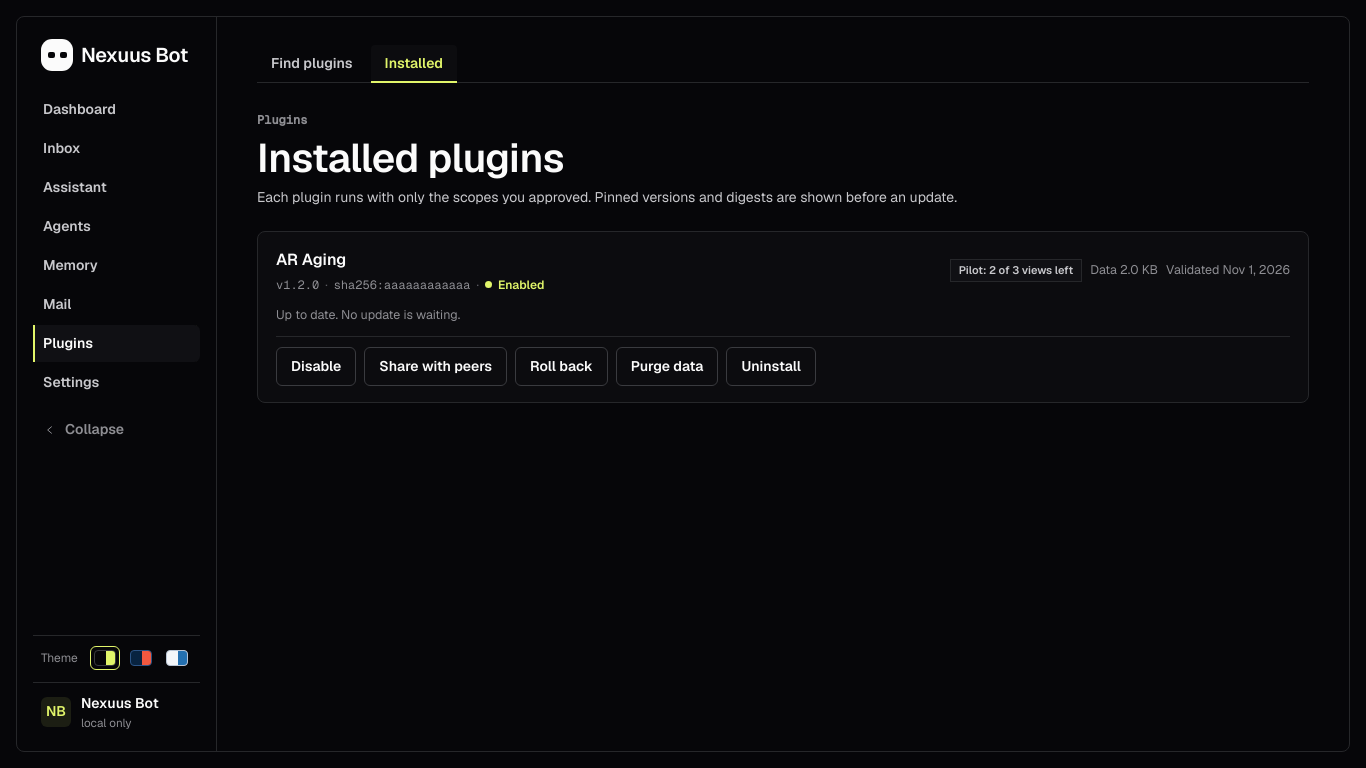
the review defects › M4: keeps the installed confirm open with a failure, then closes on success
Expected: the heading "AR Aging" is shown, [276,249,346,270]
Click the button "Roll back".
click(561, 367)  # box [515,347,608,386]
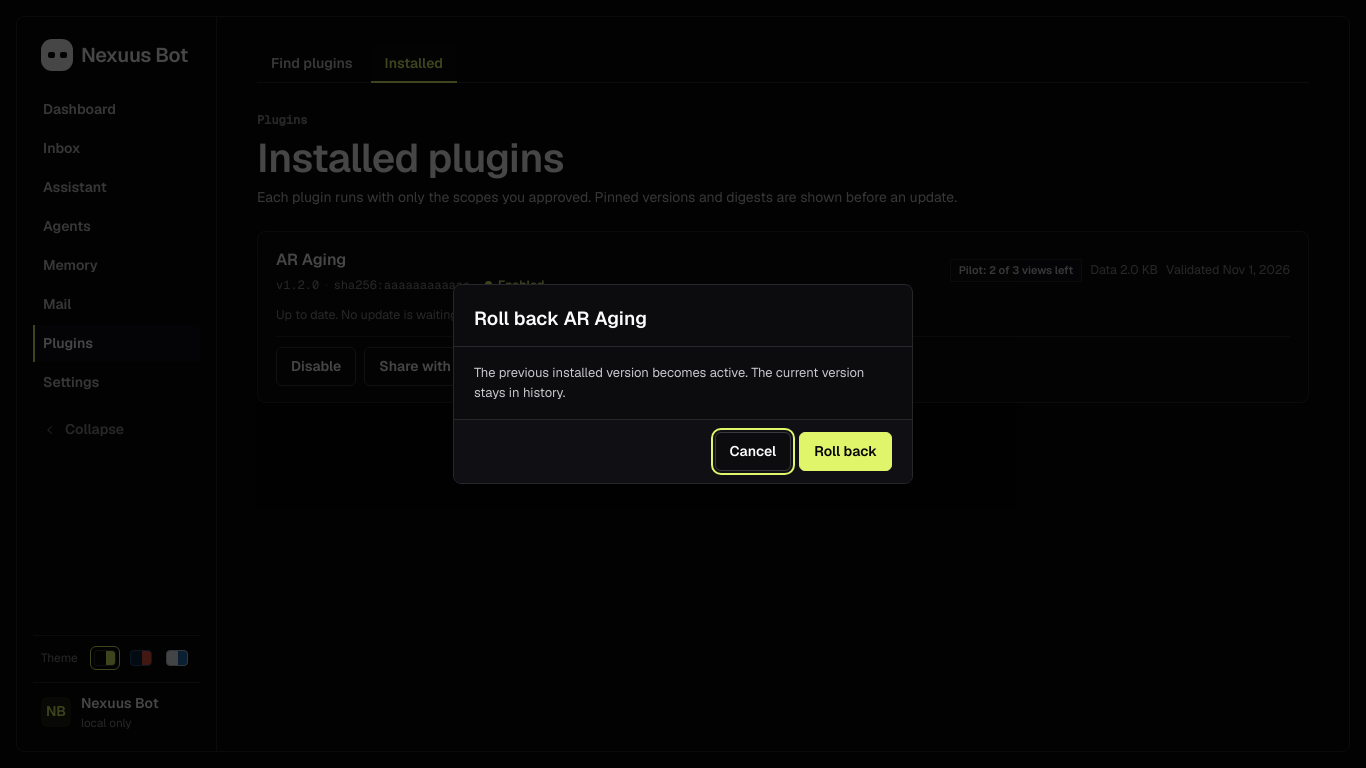
Click the button "Roll back".
click(846, 451)  # box [799,432,892,471]
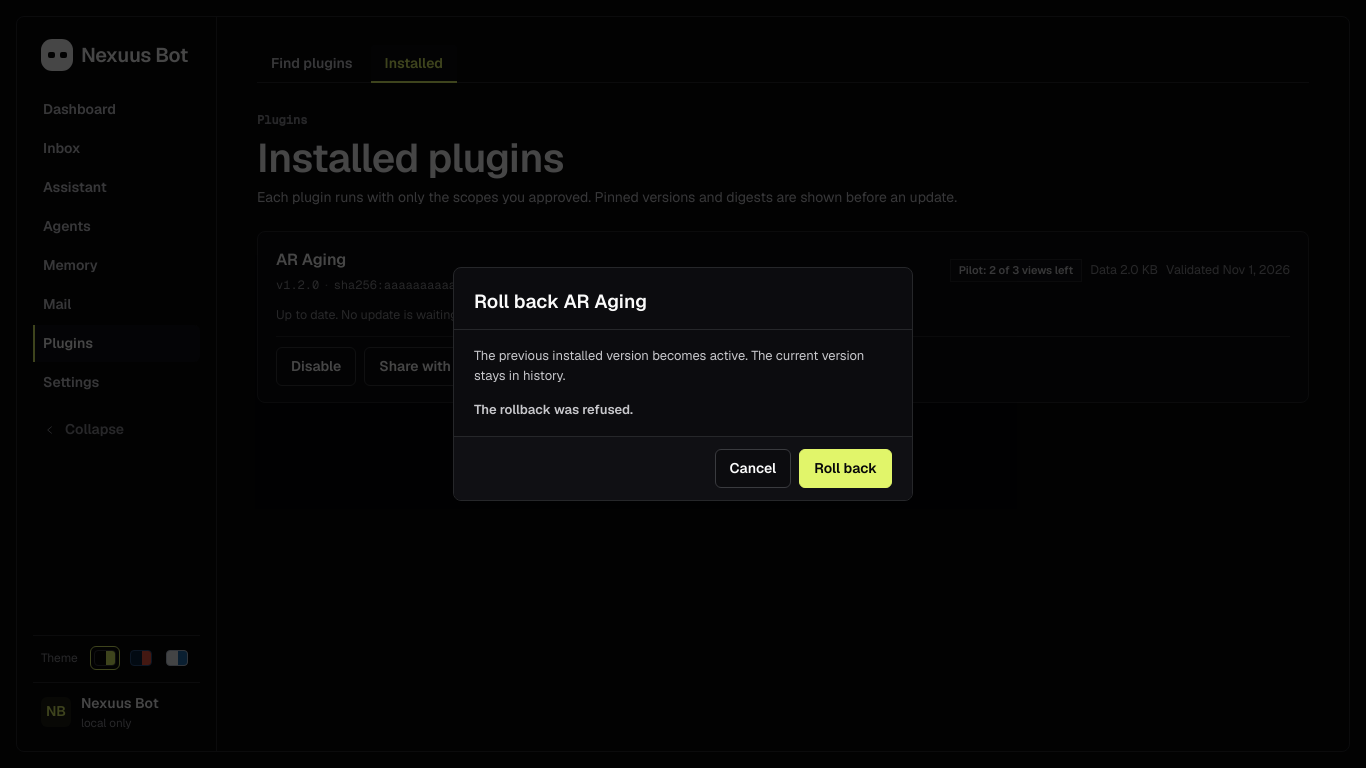
Now the dialog "Roll back AR Aging" is shown, box [453,267,913,501]
Now the message reads "The rollback was refused.", box [474,401,633,418]
Click the button "Roll back".
click(846, 468)  # box [799,449,892,488]
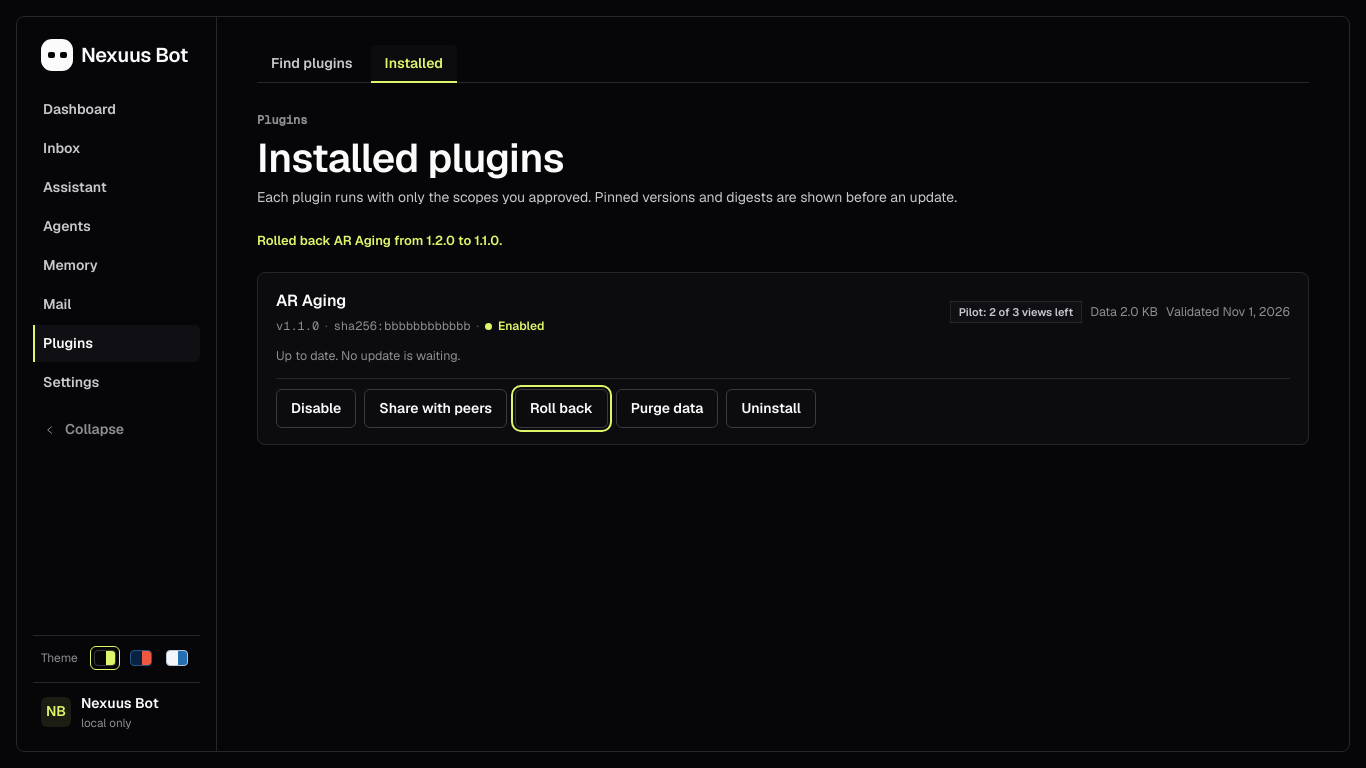
Now the text "Rolled back AR Aging from 1.2.0 to 1.1.0." is shown, box [257,232,502,249]
Now the dialog is gone
